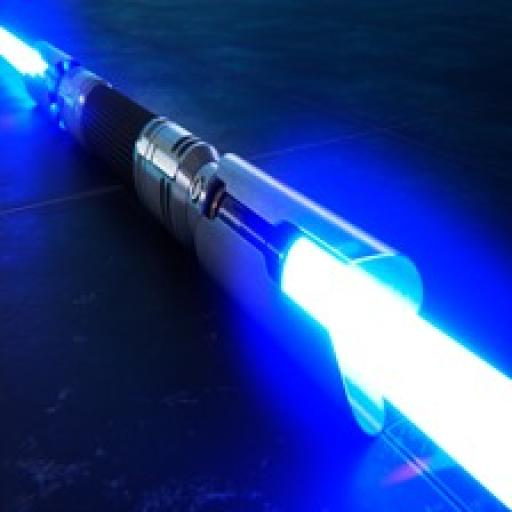lightsaber: (0, 26, 512, 512)
